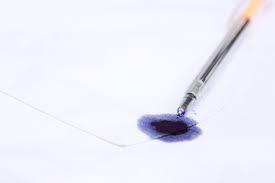ink: (141, 117, 200, 138)
